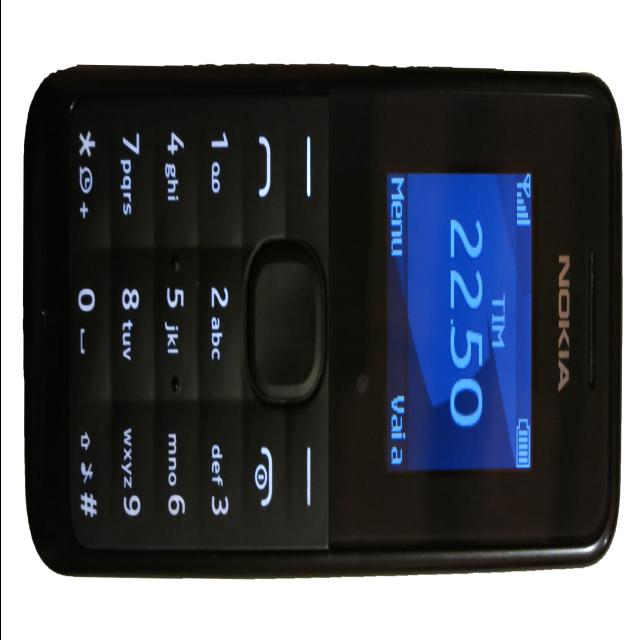mobile_phone: (21, 26, 621, 611)
